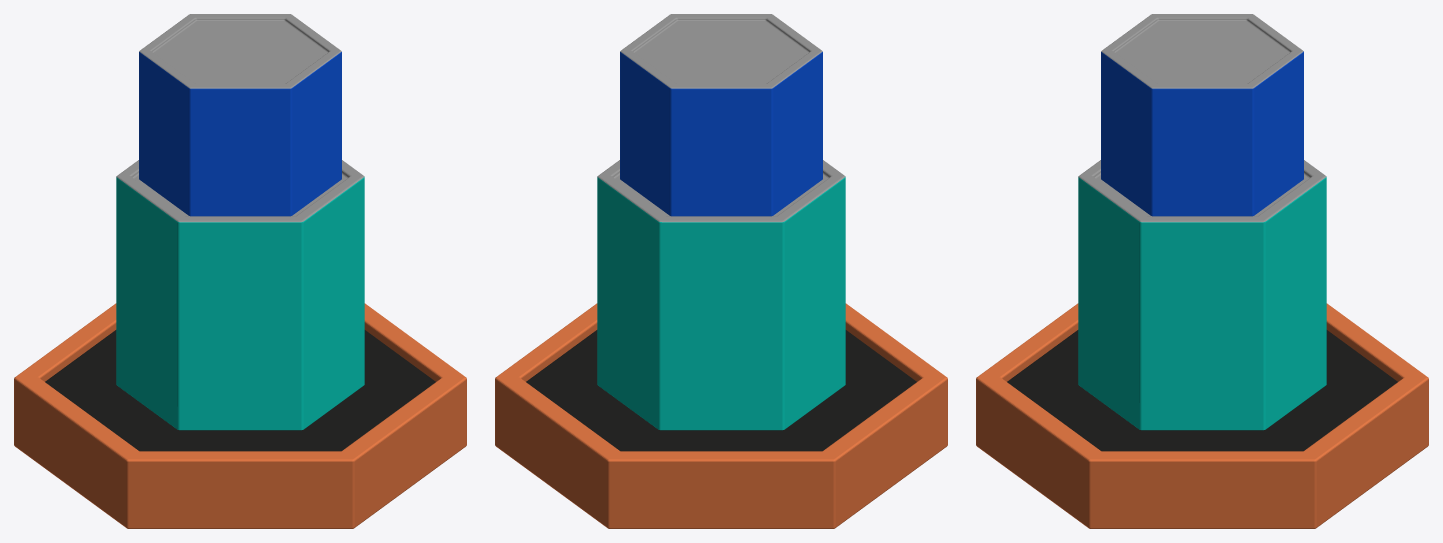
Rendered from blok1.fbx.
3 views of the same model, side by side, from view 1: azimuth 30°, elevation 25°; view 2: azimuth 150°, elevation 25°; view 3: azimuth 270°, elevation 25° (orthographic).
Visible parts, largest first — view 1: Cylinder.001; view 2: Cylinder.001; view 3: Cylinder.001.
Boxes of the visible parts, x1,y1,x2,y2 form: Cylinder.001: (14,14,466,528); Cylinder.001: (495,14,947,528); Cylinder.001: (976,14,1428,528).
Size of the model in its own units: 173 by 192 by 200.
